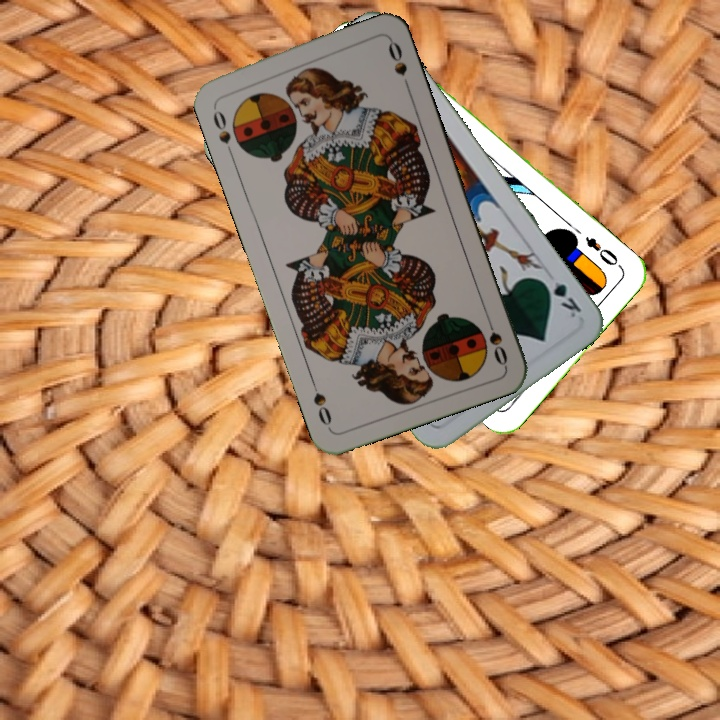EO: (581, 232, 625, 271)
GK: (537, 273, 584, 320)
SO: (481, 311, 511, 368), (208, 99, 236, 157)
